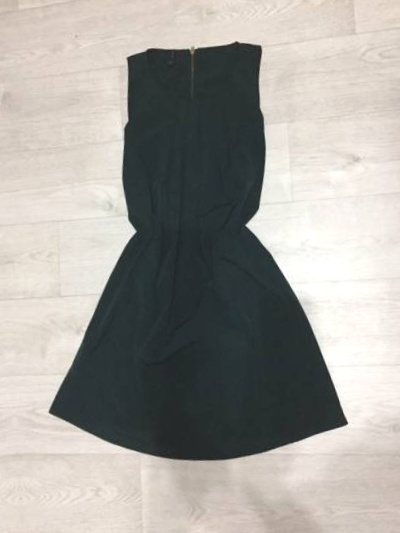Dress: (3, 21, 358, 482), (0, 48, 2, 509)
